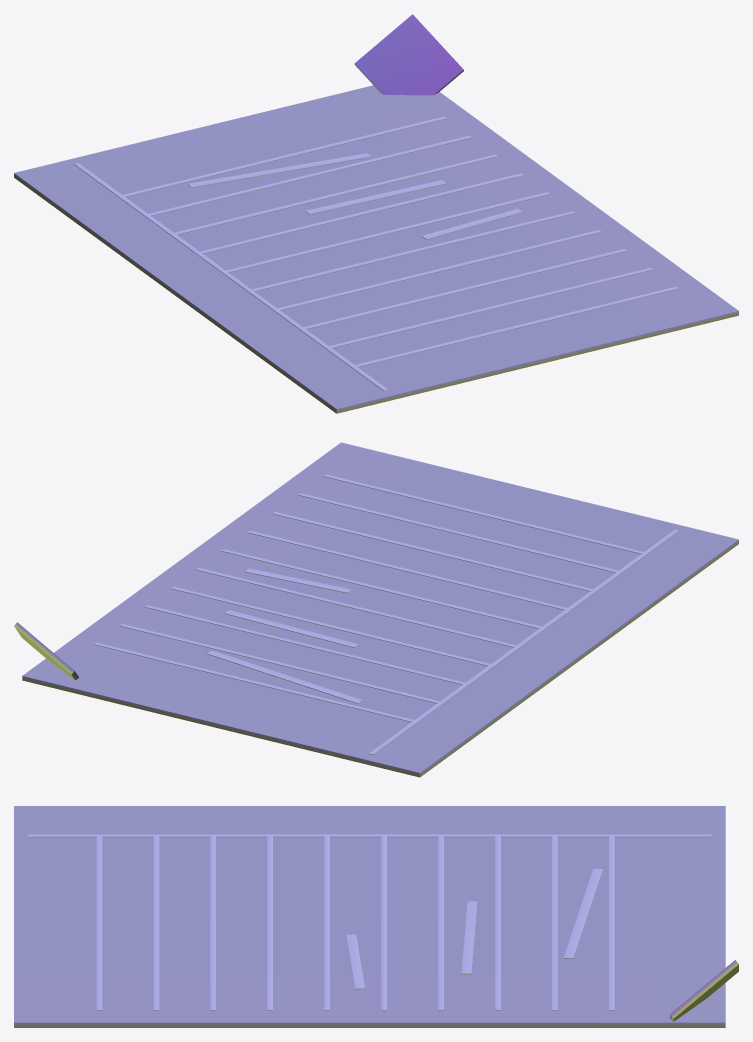
File: env_deco_paper.glb
The picture shows the model from 3 angles, top to bottom: view 1: azimuth 30°, elevation 25°; view 2: azimuth 150°, elevation 25°; view 3: azimuth 270°, elevation 25°; orthographic projection. The views are drawn at different scales.
Visible parts, largest first — view 1: env_deco_paper_mesh; view 2: env_deco_paper_mesh; view 3: env_deco_paper_mesh.
Boxes of the visible parts, x1,y1,x2,y2 form: env_deco_paper_mesh: (14,14,738,413); env_deco_paper_mesh: (14,442,738,777); env_deco_paper_mesh: (14,806,738,1027).
Bounding box in the file's own units: 0.7628 × 0.1321 × 1.02.
